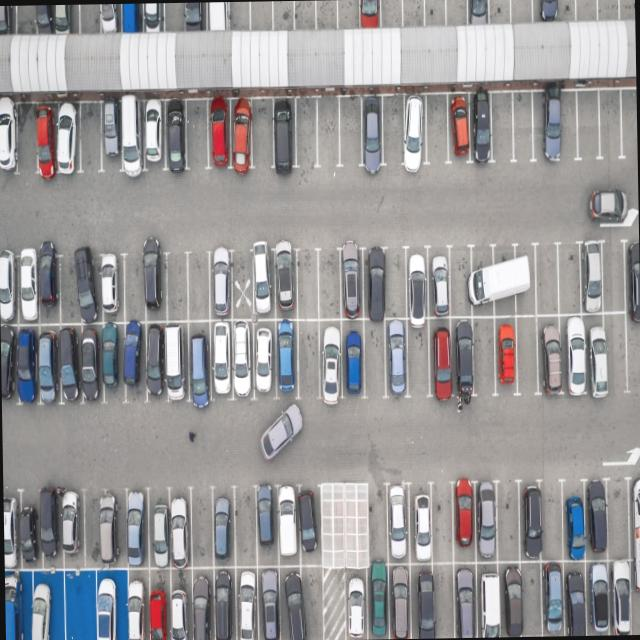car: (22, 567, 61, 640), (90, 565, 125, 640), (570, 316, 602, 398), (560, 313, 591, 394), (186, 321, 214, 404), (475, 560, 505, 636), (426, 318, 454, 398), (536, 316, 564, 396), (536, 90, 566, 162), (230, 565, 259, 639), (339, 318, 366, 397), (449, 317, 475, 399), (162, 320, 188, 402), (399, 95, 428, 168), (208, 320, 234, 401), (210, 564, 238, 639), (489, 243, 518, 315), (272, 318, 298, 398), (383, 482, 409, 562), (122, 320, 148, 400), (450, 480, 476, 560), (474, 480, 500, 560), (408, 482, 434, 562), (316, 318, 342, 398), (33, 324, 59, 404), (12, 324, 38, 404), (586, 312, 612, 392), (452, 562, 480, 636), (138, 99, 166, 172), (492, 314, 518, 392), (252, 320, 278, 398), (166, 488, 192, 566), (124, 488, 150, 566), (516, 482, 542, 560), (187, 565, 214, 640), (204, 98, 232, 170), (344, 568, 372, 640), (227, 320, 252, 400), (538, 562, 565, 636), (119, 99, 146, 173), (562, 558, 588, 634), (381, 318, 406, 397), (470, 243, 497, 316), (58, 324, 82, 406), (445, 93, 473, 163), (163, 100, 190, 172), (167, 568, 194, 640), (100, 253, 128, 322), (211, 489, 236, 566), (360, 93, 386, 167), (125, 566, 151, 640), (60, 492, 86, 566), (582, 558, 608, 632), (562, 485, 588, 559), (278, 564, 304, 638), (145, 488, 169, 568), (207, 249, 234, 320), (258, 564, 283, 640), (252, 245, 278, 318), (145, 567, 171, 640), (100, 319, 124, 398), (576, 244, 603, 314), (360, 249, 387, 319), (338, 250, 366, 317), (272, 246, 298, 318), (226, 100, 252, 172), (498, 564, 524, 636), (385, 562, 410, 636), (270, 97, 296, 168), (468, 94, 494, 165), (56, 102, 82, 173), (254, 486, 277, 566), (363, 566, 388, 639), (276, 486, 300, 562), (144, 322, 167, 401), (79, 250, 104, 322), (13, 252, 38, 324), (36, 248, 60, 322), (37, 490, 61, 564), (410, 562, 434, 636), (98, 489, 121, 566), (405, 250, 431, 318), (426, 250, 452, 318), (80, 324, 102, 404), (611, 557, 634, 633), (105, 492, 128, 568), (584, 483, 606, 561), (512, 244, 536, 315), (100, 102, 124, 172), (35, 102, 58, 175), (143, 252, 168, 319), (296, 490, 318, 566), (19, 491, 41, 566), (4, 569, 26, 640), (0, 101, 18, 175), (0, 249, 18, 322), (3, 496, 20, 572), (0, 324, 15, 403), (626, 240, 640, 313), (628, 476, 640, 559), (534, 0, 574, 21), (50, 4, 76, 34), (120, 3, 145, 33), (630, 557, 640, 632), (140, 3, 165, 32), (356, 0, 381, 28), (204, 2, 228, 31), (98, 4, 121, 34), (182, 2, 206, 30), (33, 5, 53, 34), (467, 0, 491, 24), (64, 4, 80, 34), (0, 5, 15, 35)
free: (62, 566, 98, 640), (233, 488, 260, 568), (603, 313, 630, 392), (470, 316, 497, 394), (428, 562, 456, 636), (296, 564, 324, 638), (294, 318, 320, 396), (512, 317, 538, 395), (405, 321, 432, 396), (429, 484, 454, 564), (421, 94, 449, 165), (184, 99, 212, 170), (364, 486, 388, 568), (188, 489, 213, 567), (337, 94, 364, 166), (314, 251, 342, 320), (227, 248, 253, 322), (250, 98, 277, 169), (600, 241, 626, 314), (292, 97, 319, 167), (78, 102, 105, 172), (488, 90, 514, 162), (496, 484, 520, 562), (540, 485, 564, 563), (316, 96, 342, 168), (378, 96, 404, 168), (362, 318, 386, 395), (533, 245, 559, 316), (380, 248, 406, 319), (292, 251, 318, 321), (598, 90, 624, 160), (15, 104, 40, 176), (165, 252, 191, 321), (576, 89, 601, 160), (184, 252, 210, 320), (556, 245, 582, 313), (606, 480, 628, 560), (520, 562, 544, 635), (448, 248, 473, 318), (511, 90, 535, 162), (123, 254, 148, 321), (59, 252, 82, 322), (84, 492, 105, 567), (558, 90, 578, 163), (321, 489, 338, 568), (624, 313, 640, 390), (620, 90, 637, 158), (314, 0, 338, 31), (336, 0, 361, 29), (248, 1, 272, 31), (292, 0, 316, 30), (271, 1, 294, 32), (378, 0, 403, 28), (162, 2, 185, 32), (15, 5, 38, 35), (80, 4, 102, 35), (401, 0, 425, 27), (228, 2, 251, 30), (445, 0, 469, 25), (424, 0, 447, 26), (487, 0, 509, 24), (509, 0, 531, 23), (575, 0, 598, 20), (595, 0, 618, 20), (618, 0, 634, 18)
